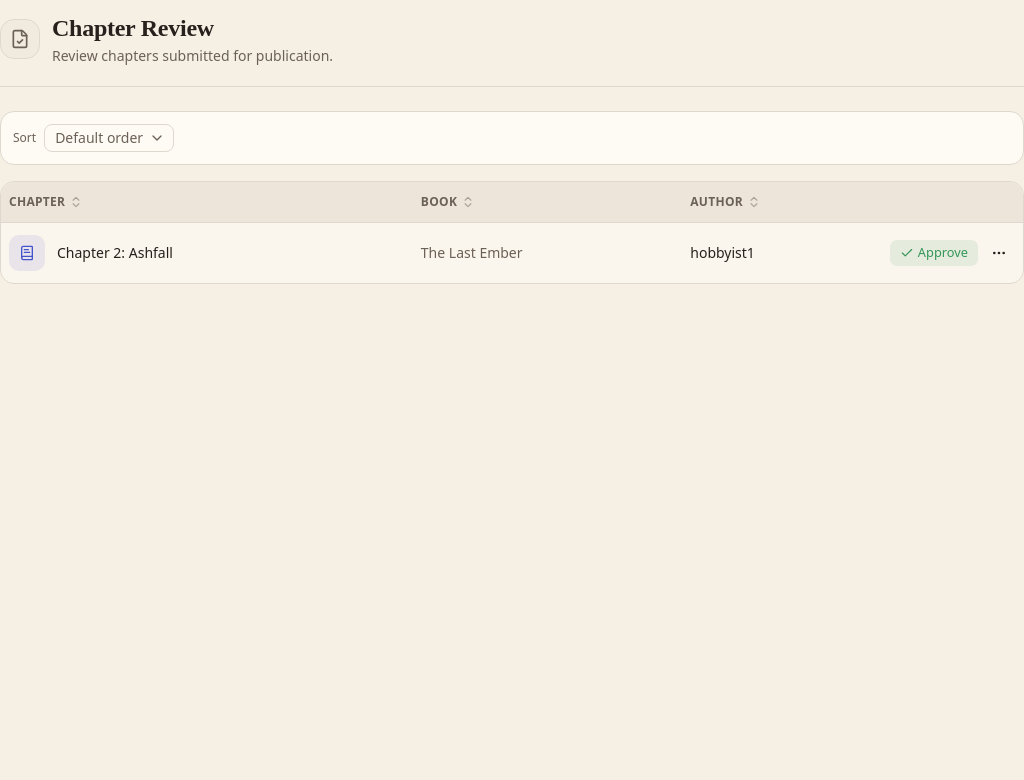
ChaptersQueuePage › approves a pending chapter
Click the button "Approve": (934, 252) [889, 238, 979, 266]
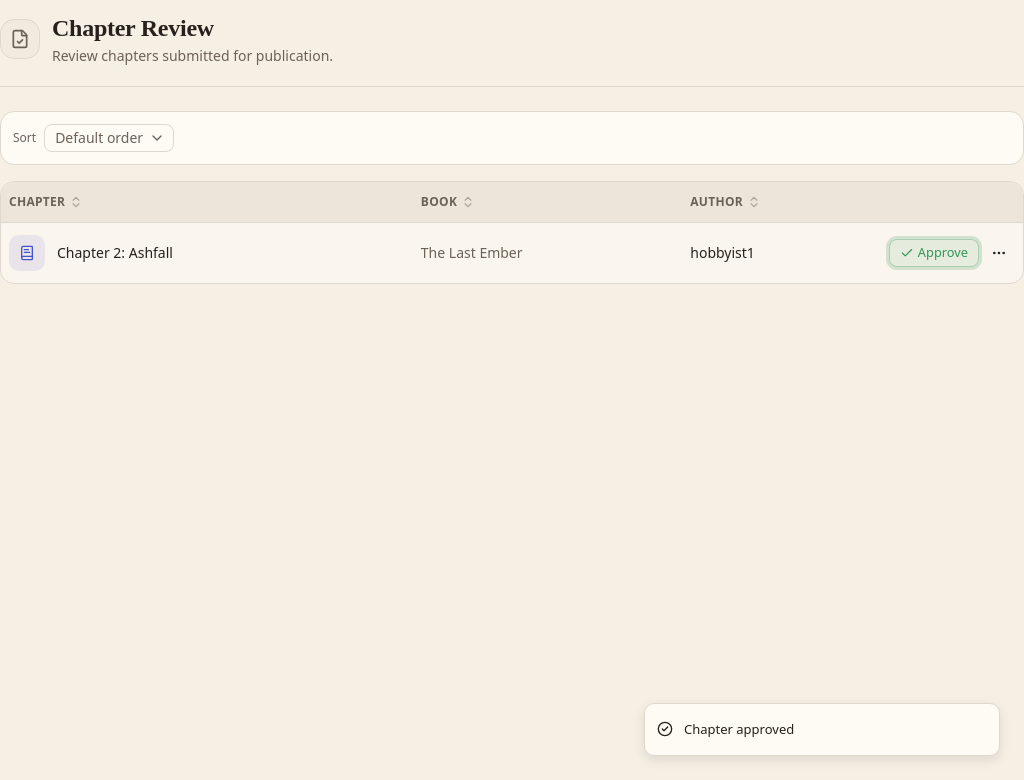
expect the text "Chapter approved" is shown: met, box [684, 720, 794, 739]
